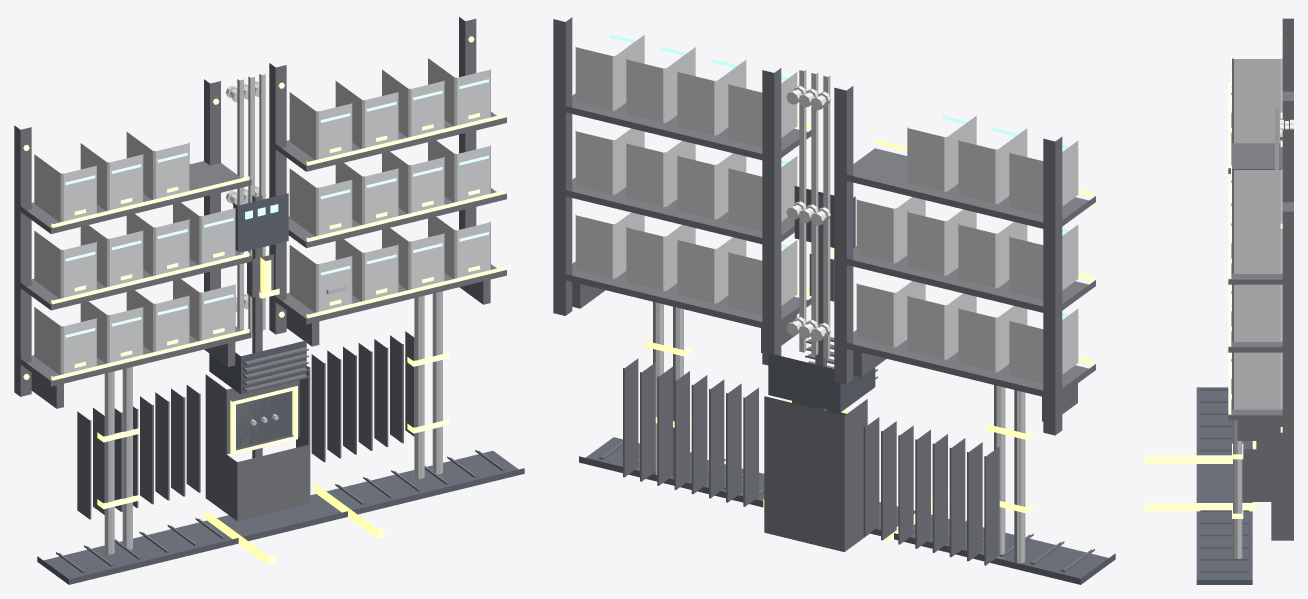
File: substation_wall_ladder_busway.glb
3 views of the same model, side by side, from view 1: azimuth 30°, elevation 25°; view 2: azimuth 150°, elevation 25°; view 3: azimuth 270°, elevation 25° (orthographic). The views are drawn at different scales.
Parts seen in each view (by area): view 1: Substation_Static, Swap_Cell; view 2: Substation_Static, Swap_Cell; view 3: Substation_Static.
Boxes of the visible parts, x1=… form: Substation_Static: x1=14, y1=17, x2=524, y2=584; Swap_Cell: x1=289, y1=245, x2=352, y2=312; Substation_Static: x1=553, y1=17, x2=1115, y2=584; Swap_Cell: x1=728, y1=240, x2=797, y2=314; Substation_Static: x1=1144, y1=18, x2=1293, y2=584.
Size of the model in its own units: 2.5 by 2.2 by 0.8.
